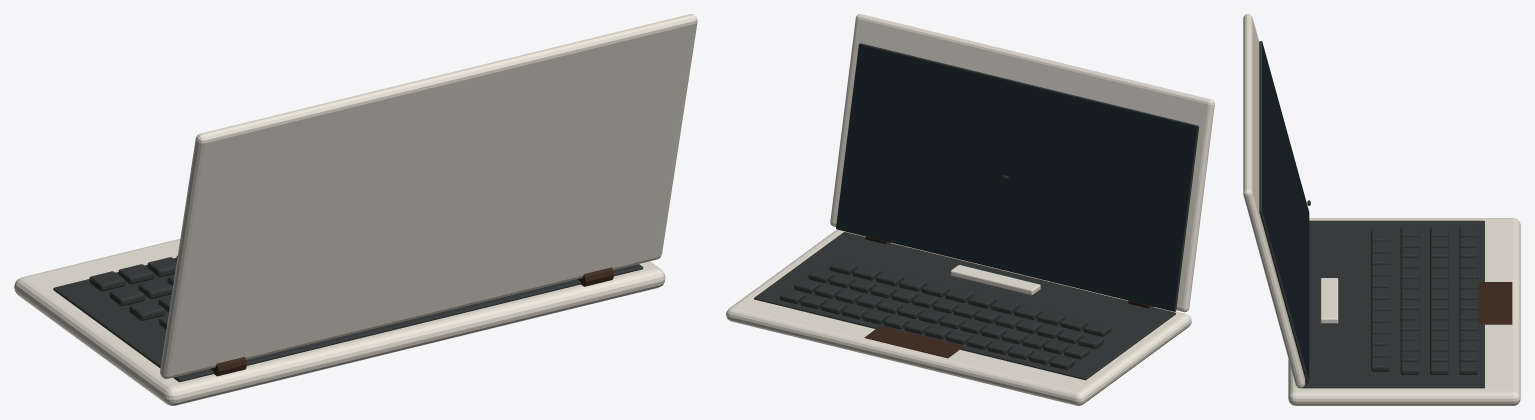
Rendered from laptop_13.fbx.
3 renders of one model, left to right at view 1: azimuth 30°, elevation 25°; view 2: azimuth 150°, elevation 25°; view 3: azimuth 270°, elevation 25°, orthographic. The views are drawn at different scales.
Visible parts, largest first — view 1: laptop_13; view 2: laptop_13; view 3: laptop_13.
Boxes of the visible parts, bbox=[...] form: laptop_13: bbox=[14, 14, 697, 405]; laptop_13: bbox=[726, 14, 1214, 405]; laptop_13: bbox=[1243, 14, 1520, 405].
Size of the model in its own units: 0.62 by 0.3503 by 0.406.
